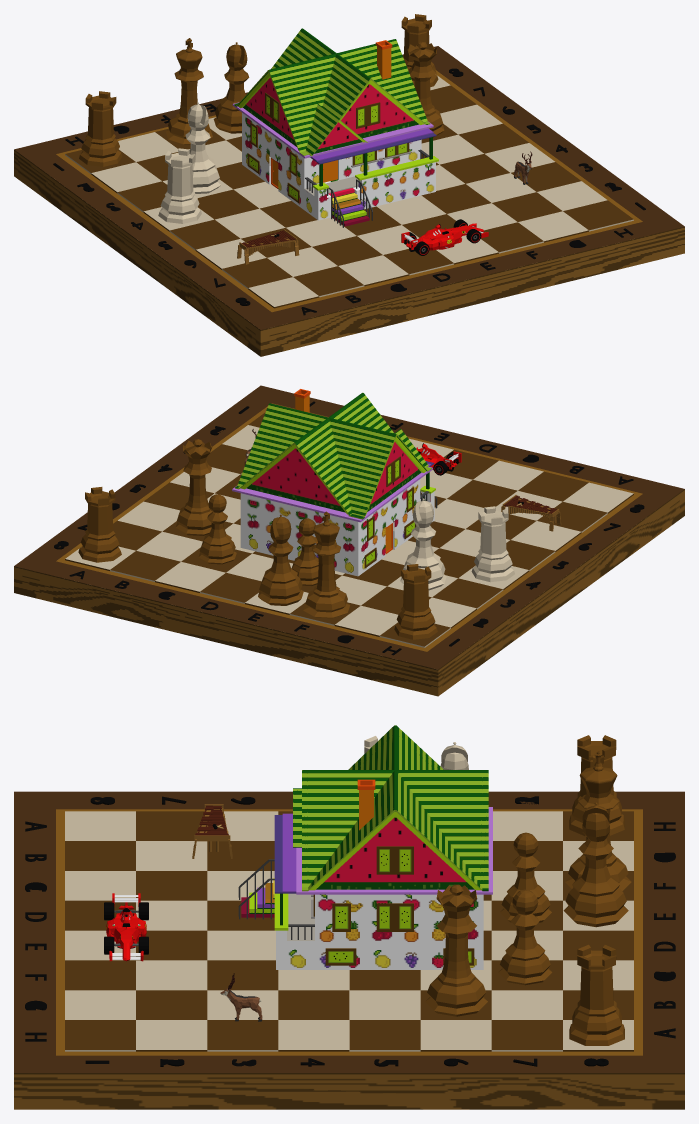
The picture shows the model from 3 angles, top to bottom: view 1: azimuth 30°, elevation 25°; view 2: azimuth 150°, elevation 25°; view 3: azimuth 270°, elevation 25°; orthographic projection. The views are drawn at different scales.
Visible parts, largest first — view 1: Cube.002, Cube.1063, VEHICLES_FORMULA_1, OBJRANDOM_MARIMBA; view 2: Cube.002, Cube.1063, OBJRANDOM_MARIMBA, VEHICLES_FORMULA_1; view 3: Cube.002, Cube.1063, VEHICLES_FORMULA_1, OBJRANDOM_MARIMBA, ANIMAL_VENADO.
Part boxes in pixels (<box>): Cube.002: <box>14,14,684,356</box>; Cube.1063: <box>232,28,438,227</box>; VEHICLES_FORMULA_1: <box>401,219,488,255</box>; OBJRANDOM_MARIMBA: <box>237,229,299,264</box>; Cube.002: <box>14,385,684,696</box>; Cube.1063: <box>232,389,437,576</box>; OBJRANDOM_MARIMBA: <box>501,495,561,531</box>; VEHICLES_FORMULA_1: <box>416,443,461,475</box>; Cube.002: <box>14,735,684,1109</box>; Cube.1063: <box>238,725,492,969</box>; VEHICLES_FORMULA_1: <box>104,893,148,961</box>; OBJRANDOM_MARIMBA: <box>192,804,232,858</box>; ANIMAL_VENADO: <box>220,973,262,1021</box>.
Bounding box in the file's own units: 3981 × 1434 × 4012.
37 materials, 5 textured.
